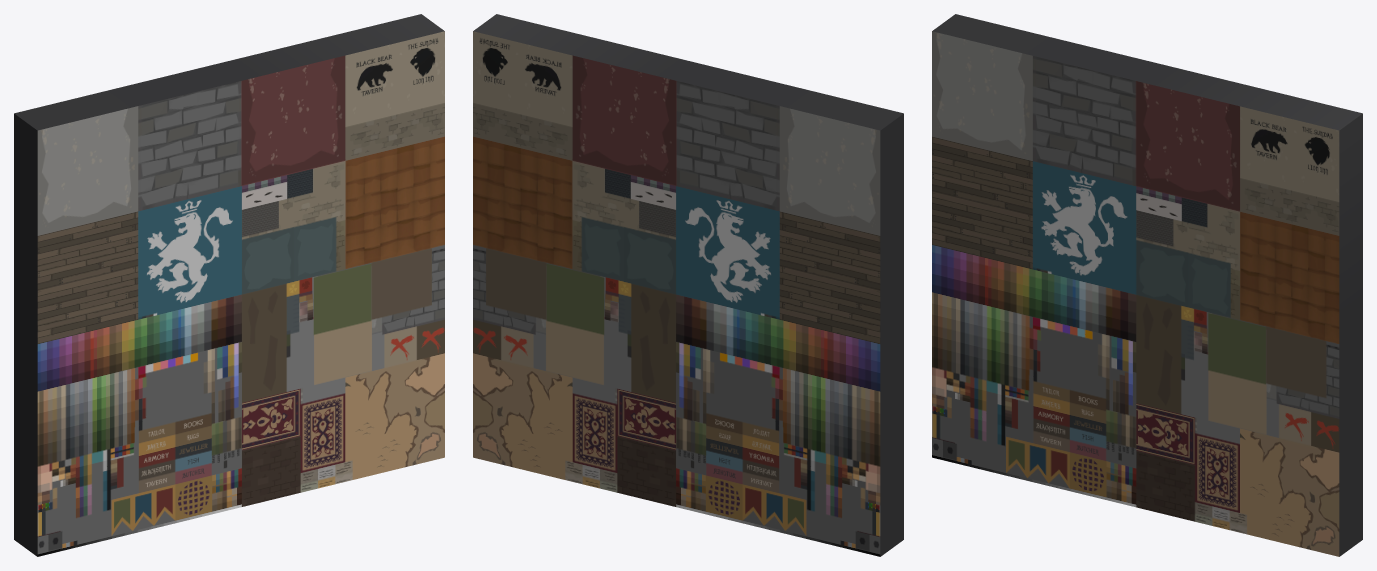
File: kingdom_SM_Bld_Castle_Wall_01.gltf
3 renders of one model, left to right at view 1: azimuth 30°, elevation 25°; view 2: azimuth 150°, elevation 25°; view 3: azimuth 330°, elevation 25°, orthographic.
Parts seen in each view (by area): view 1: SM_Bld_Castle_Wall_01; view 2: SM_Bld_Castle_Wall_01; view 3: SM_Bld_Castle_Wall_01.
Part boxes in pixels (x1,y1,x2,y2): SM_Bld_Castle_Wall_01: [14, 14, 444, 556]; SM_Bld_Castle_Wall_01: [473, 14, 903, 556]; SM_Bld_Castle_Wall_01: [932, 14, 1362, 556].
Bounding box in the file's own units: 5 × 5 × 0.4999.
Materials: 1 (1 with a texture image).
